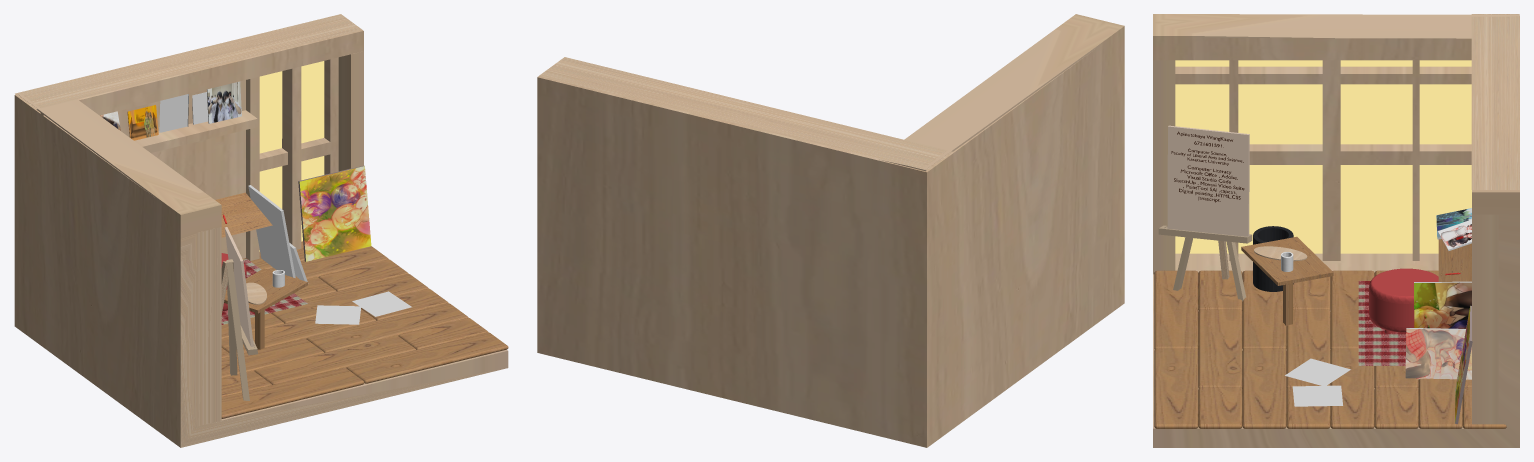
File: artstudio.glb
3 views of the same model, side by side, from view 1: azimuth 30°, elevation 25°; view 2: azimuth 150°, elevation 25°; view 3: azimuth 270°, elevation 25° (orthographic). The views are drawn at different scales.
Parts seen in each view (by area): view 1: Plane.015; view 2: Plane.015; view 3: Plane.015, Text.005.
Part boxes in pixels (x1,y1,x2,y2): Plane.015: (14, 14, 508, 447); Plane.015: (537, 14, 1124, 447); Plane.015: (1153, 14, 1519, 447); Text.005: (1174, 165, 1244, 202).
Bounding box in the file's own units: 2.98 × 2.01 × 2.6.
Materials: 34 (17 with a texture image).
